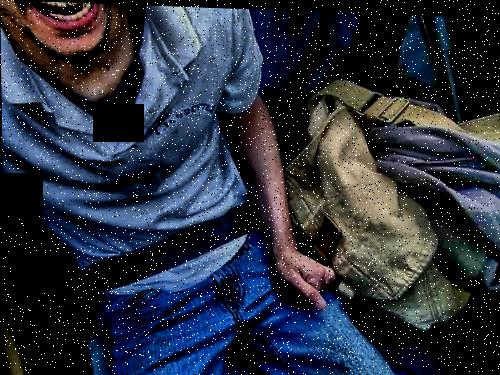seatbelt: (65, 165, 317, 299)
